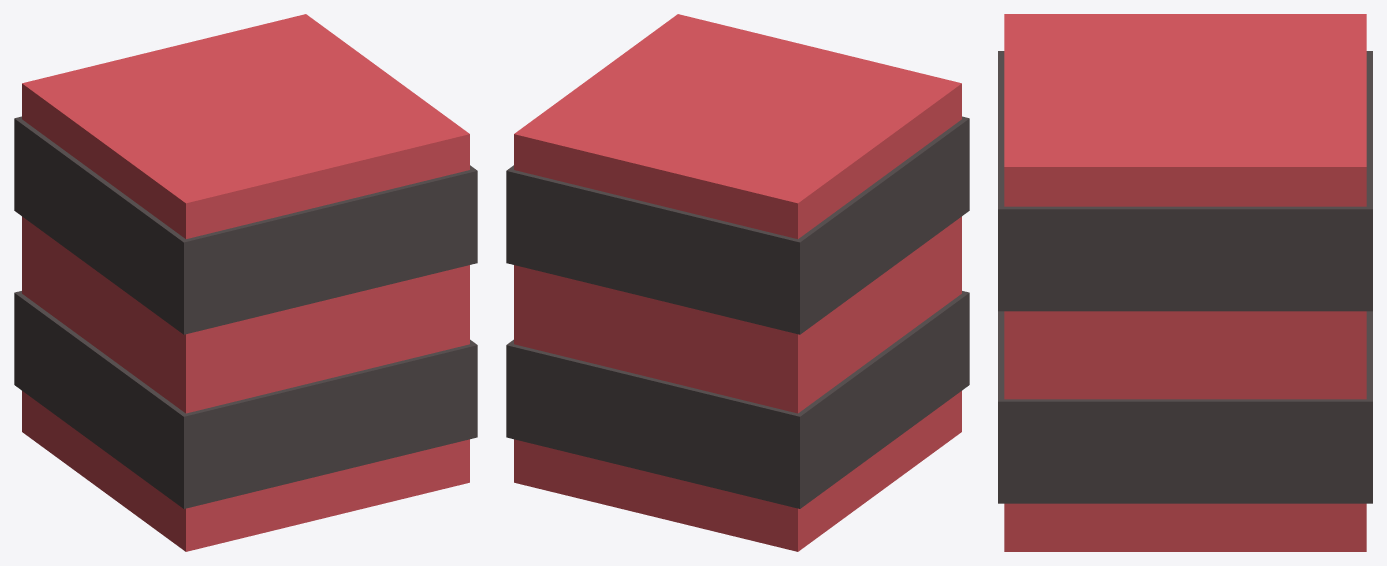
The model's file is lenhador_manga_sup.glb.
The picture shows the model from 3 angles, left to right: view 1: azimuth 30°, elevation 25°; view 2: azimuth 150°, elevation 25°; view 3: azimuth 270°, elevation 25°; orthographic projection. The views are drawn at different scales.
Visible parts, largest first — view 1: lenhador_manga_sup; view 2: lenhador_manga_sup; view 3: lenhador_manga_sup.
Boxes of the visible parts, <box> form: lenhador_manga_sup: <box>14,14,477,551</box>; lenhador_manga_sup: <box>506,14,969,551</box>; lenhador_manga_sup: <box>998,14,1372,551</box>.
Size of the model in its own units: 0.3 by 0.34 by 0.3.
